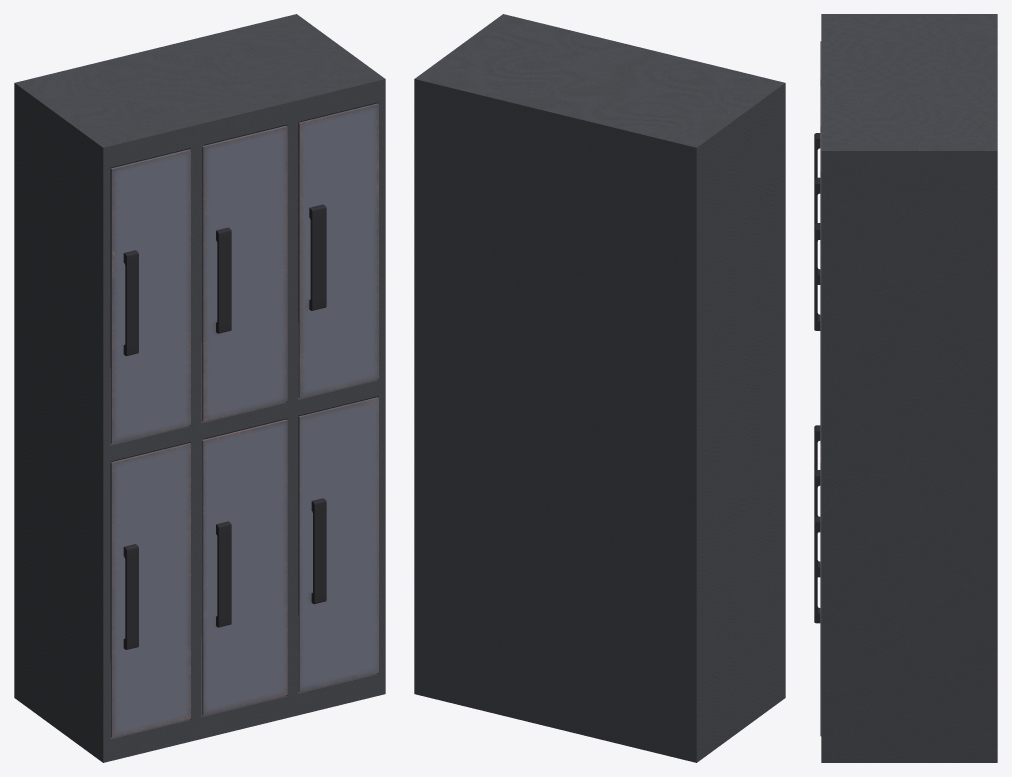
Rendered from C_Locker.fbx.
3 renders of one model, left to right at view 1: azimuth 30°, elevation 25°; view 2: azimuth 150°, elevation 25°; view 3: azimuth 270°, elevation 25°, orthographic.
Parts seen in each view (by area): view 1: Lockers, Shell, Handles; view 2: Shell; view 3: Shell, Handles, Lockers.
Boxes of the visible parts, box(x1,y1,x2,y2) form: Lockers: box(110, 103, 378, 737); Shell: box(14, 14, 385, 762); Handles: box(123, 204, 326, 649); Shell: box(414, 14, 785, 762); Shell: box(821, 14, 997, 762); Handles: box(814, 133, 820, 623); Lockers: box(820, 41, 821, 736).
Size of the model in its own units: 8.26 by 17.2 by 4.68.
